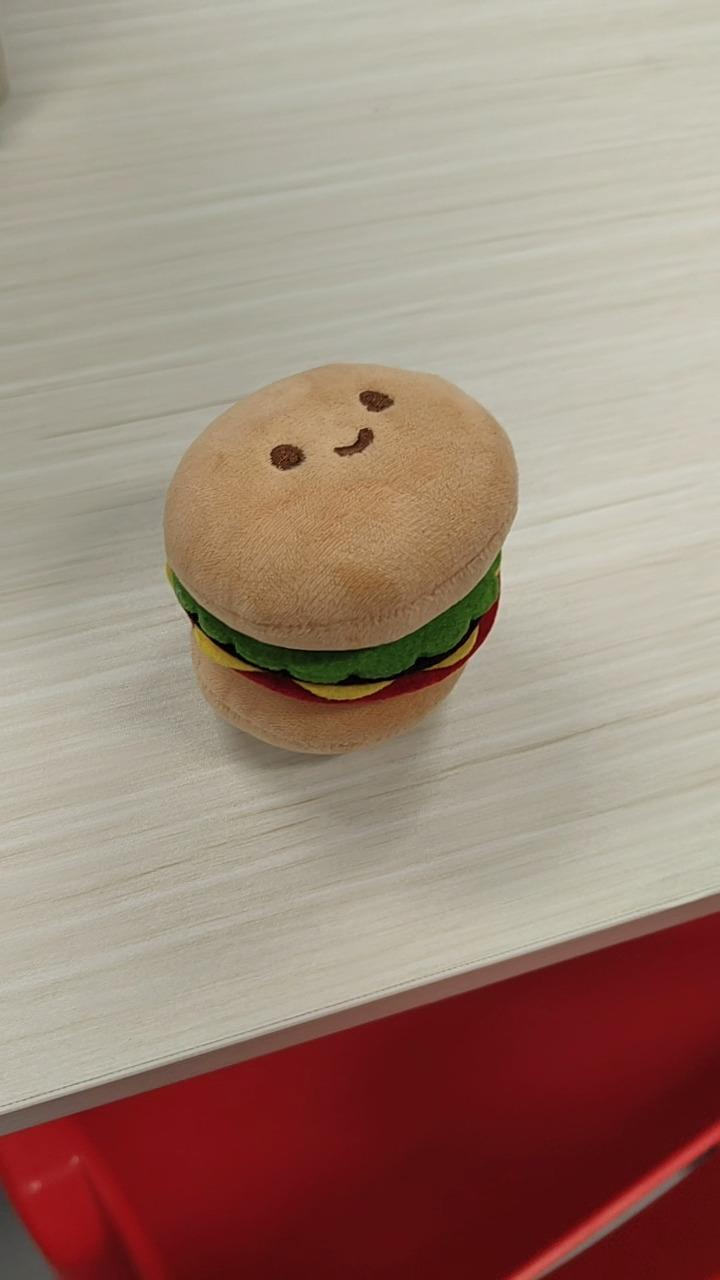hamburger: (161, 360, 519, 757)
